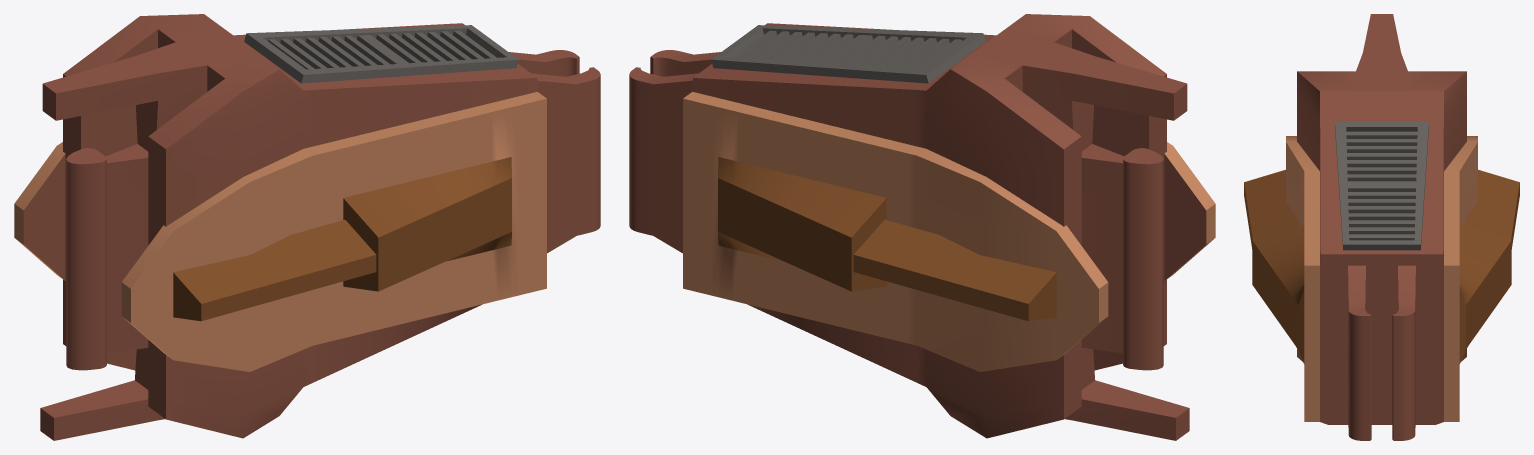
Rendered from Onderdeel Staart Nummer 10.fbx.
3 renders of one model, left to right at view 1: azimuth 30°, elevation 25°; view 2: azimuth 150°, elevation 25°; view 3: azimuth 270°, elevation 25°, orthographic. The views are drawn at different scales.
Parts seen in each view (by area): view 1: Onderdeel staart.019; view 2: Onderdeel staart.019; view 3: Onderdeel staart.019.
Boxes of the visible parts, x1,y1,x2,y2 form: Onderdeel staart.019: [14, 14, 600, 440]; Onderdeel staart.019: [629, 14, 1215, 440]; Onderdeel staart.019: [1244, 14, 1519, 440].
Bounding box in the file's own units: 523 × 322 × 281.
